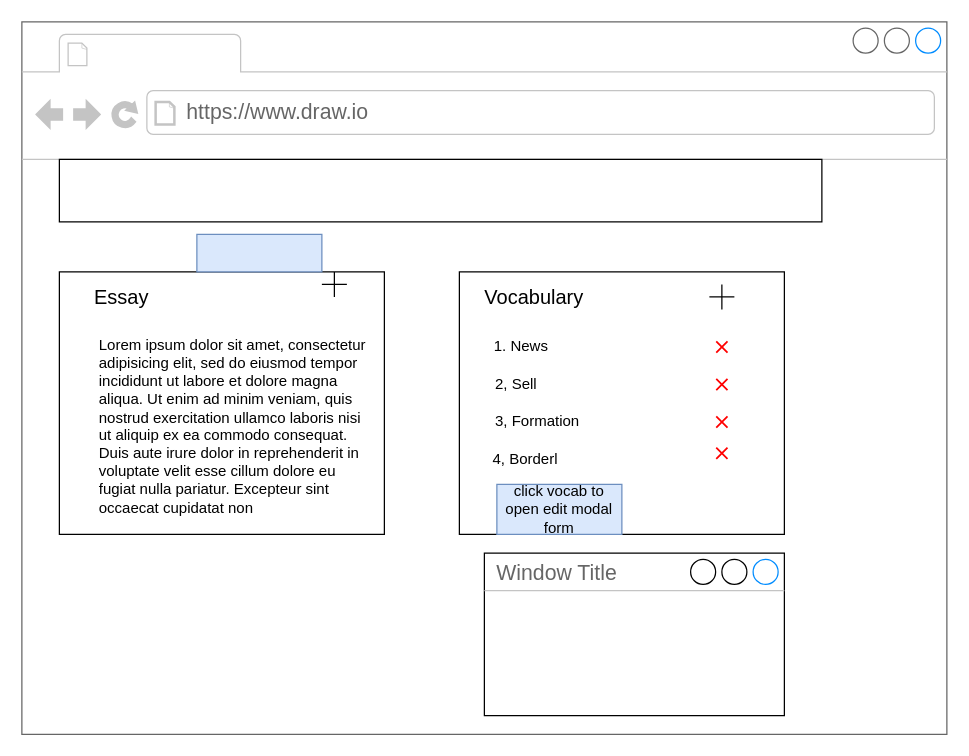
Image size: 969x756. Some labels were removed from this diagram. Here are the shapes that lost their labels. From the top down, the centre of each, then its label:
At [165,52]: "Page 1".
At [259,252]: "highlight word to add vocab".
